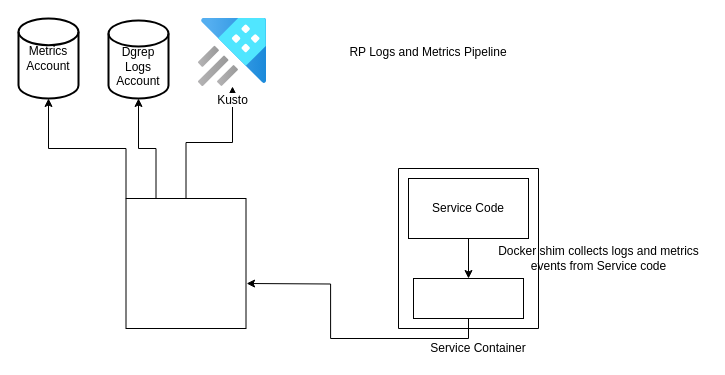
Some shapes in this 725 by 375 pixel diagram are drawn without their labels. Each missing label, with the box of its shape:
Docker shim: (412, 278, 524, 318)
Monitoring Agent Listening at port 12005: (125, 198, 246, 328)
